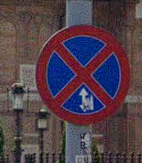oprirea_interzisa: (36, 23, 130, 126)
